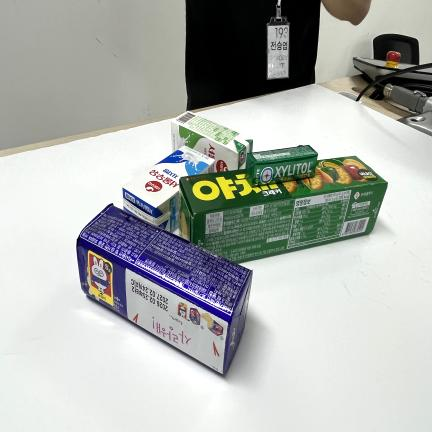cracker_ace: (76, 204, 252, 375)
cracker_vege: (179, 156, 388, 263)
gum_green: (245, 145, 318, 186)
milk_blue: (123, 146, 214, 232)
milk_green: (171, 111, 253, 172)
